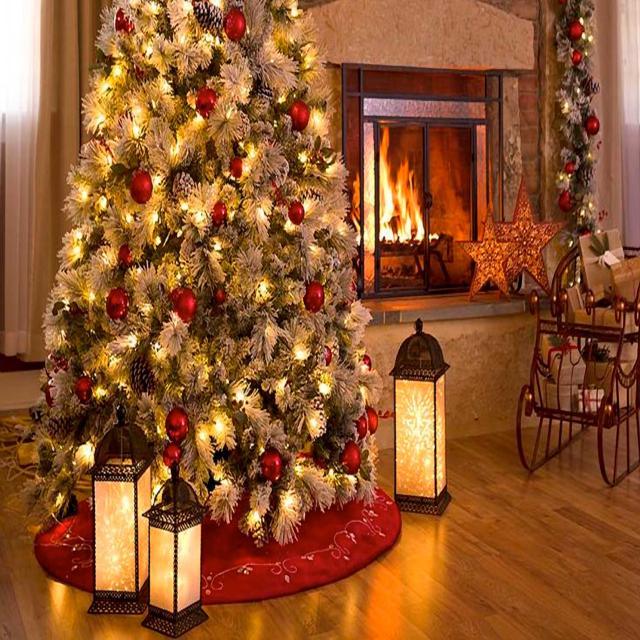Christmas-tree: (57, 0, 375, 428)
